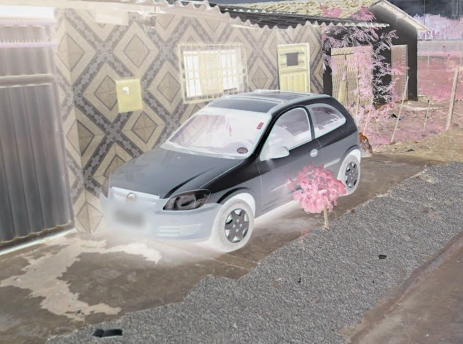car: (94, 86, 363, 253)
